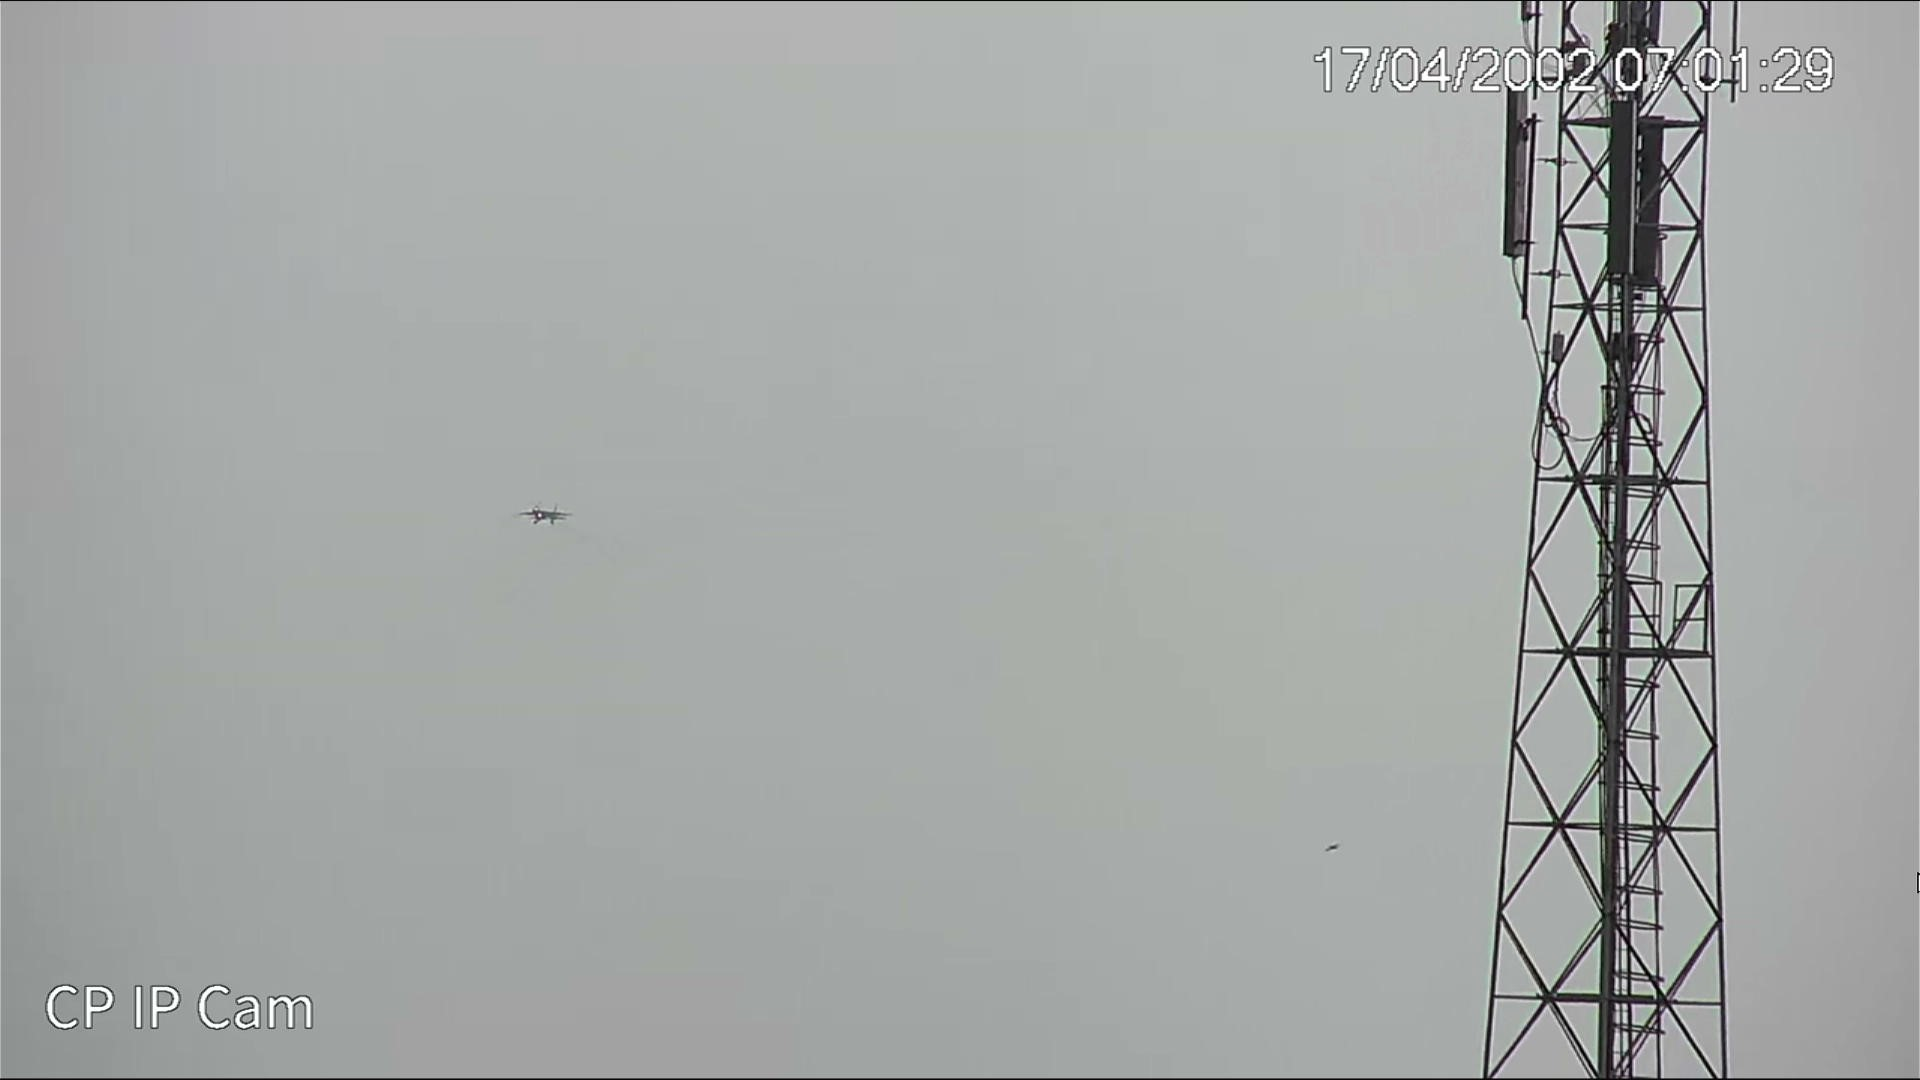SU_30: (521, 502, 566, 527)
